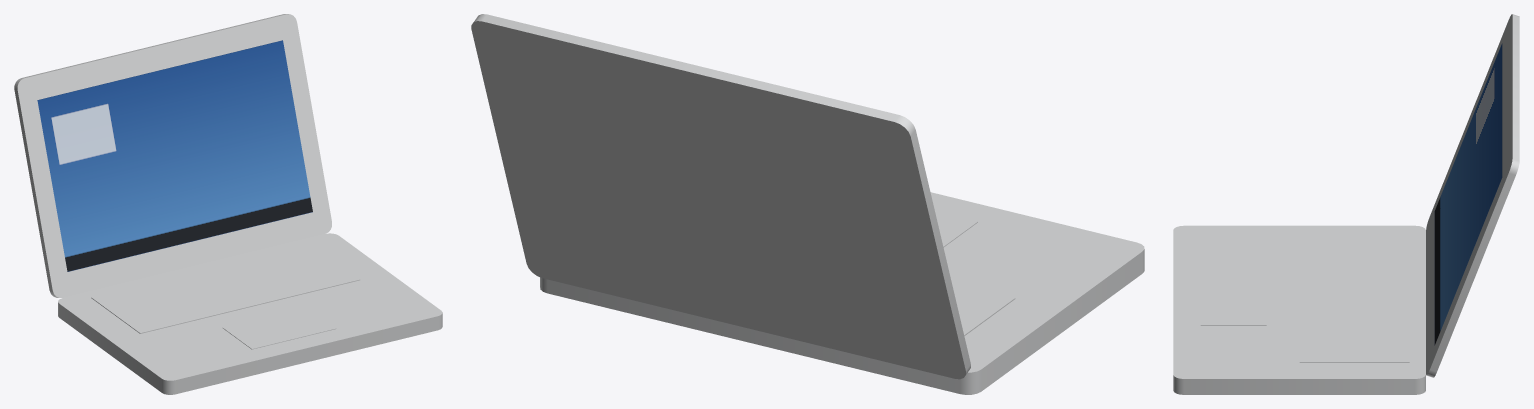
3 renders of one model, left to right at view 1: azimuth 30°, elevation 25°; view 2: azimuth 150°, elevation 25°; view 3: azimuth 270°, elevation 25°, orthographic. The views are drawn at different scales.
Parts seen in each view (by area): view 1: Laptop, open; view 2: Laptop, open; view 3: Laptop, open.
Boxes of the visible parts, box(x1,y1,x2,y2) form: Laptop, open: box(14, 14, 442, 394); Laptop, open: box(471, 14, 1144, 394); Laptop, open: box(1173, 14, 1519, 394).
Bounding box in the file's own units: 0.33 × 0.2321 × 0.3152.
2 materials, 1 textured.
